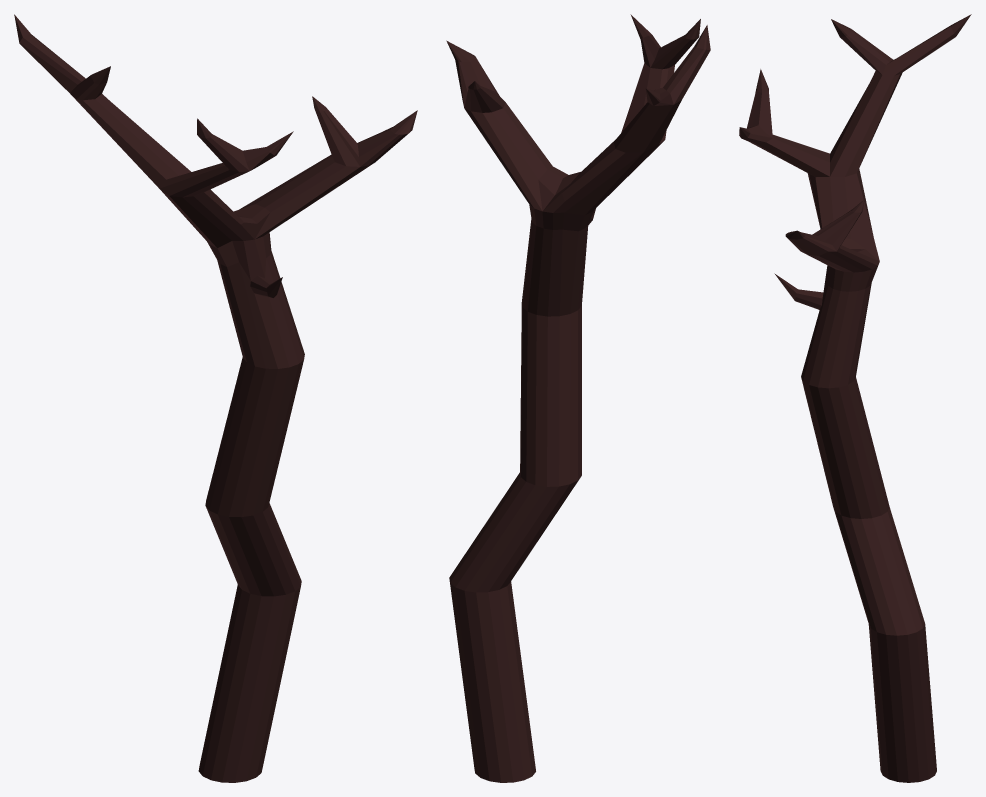
Rendered from small_tree_naked.glb.
3 views of the same model, side by side, from view 1: azimuth 30°, elevation 25°; view 2: azimuth 150°, elevation 25°; view 3: azimuth 270°, elevation 25° (orthographic). The views are drawn at different scales.
Visible parts, largest first — view 1: Tree; view 2: Tree; view 3: Tree.
Part boxes in pixels (bbox=[...]): Tree: bbox=[14, 14, 417, 782]; Tree: bbox=[446, 14, 710, 782]; Tree: bbox=[739, 14, 971, 782].
Bounding box in the file's own units: 1.6 × 3.83 × 1.18.
